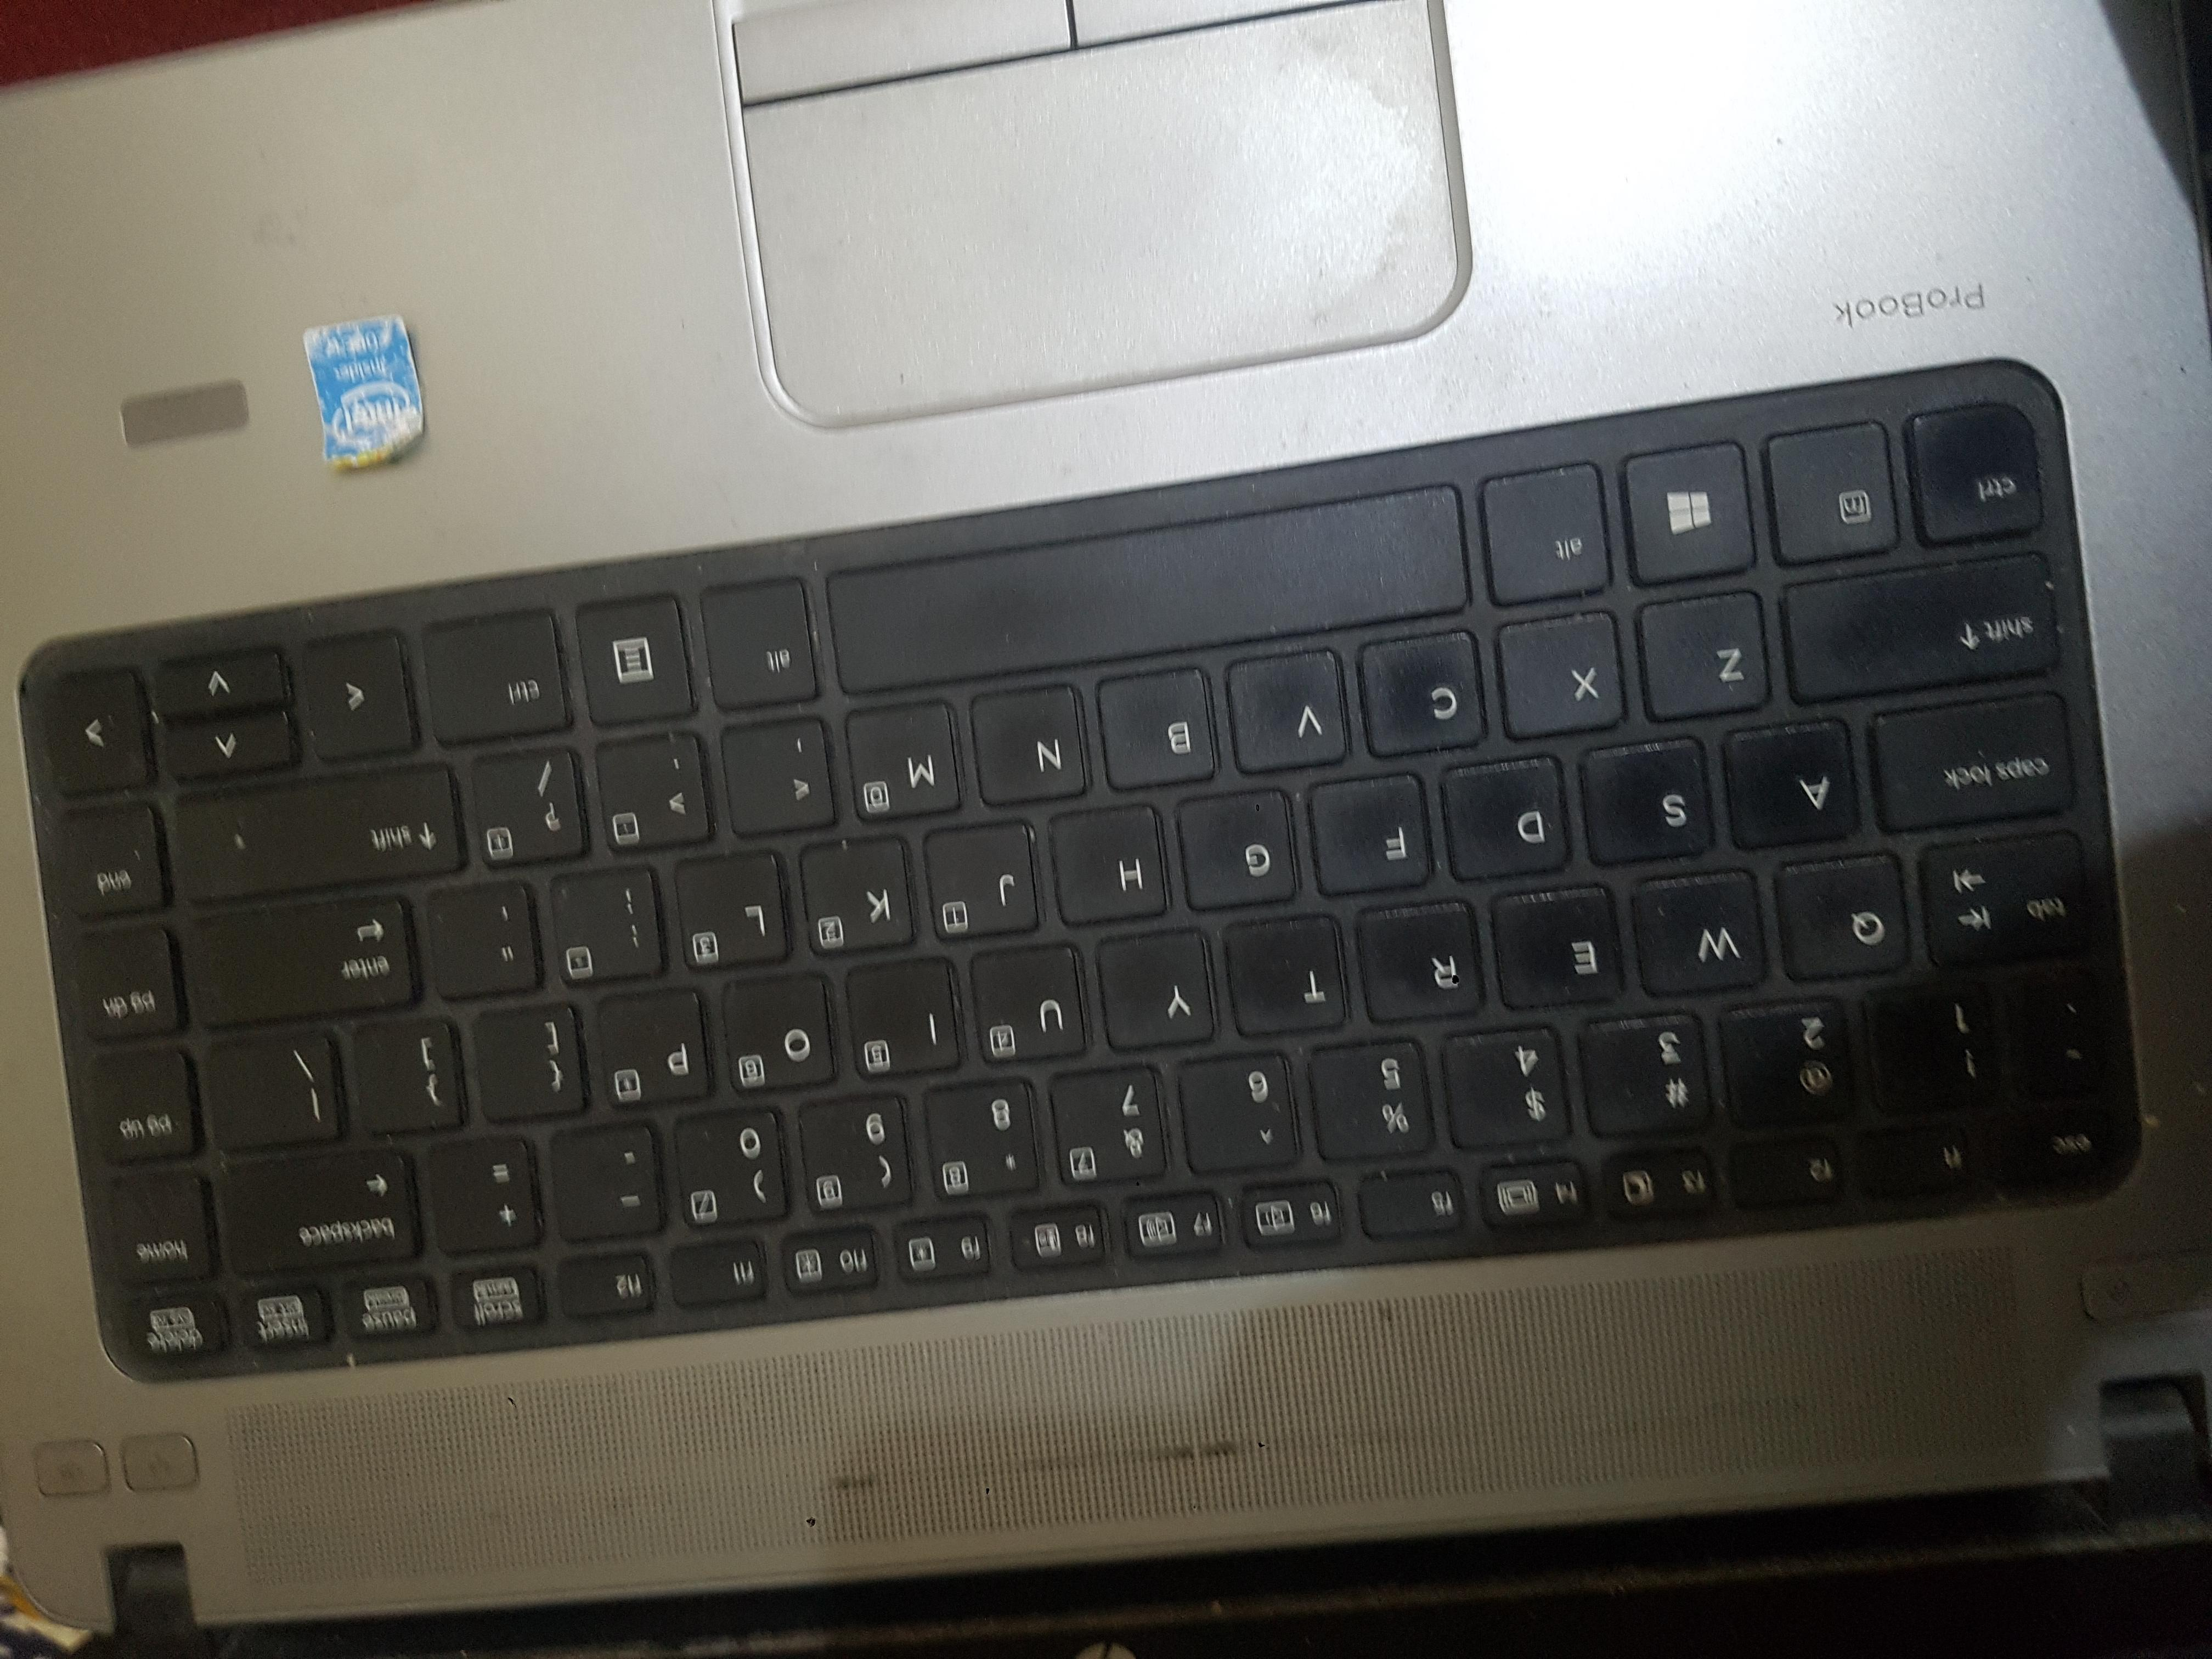electronic: (3, 3, 2212, 1659)
